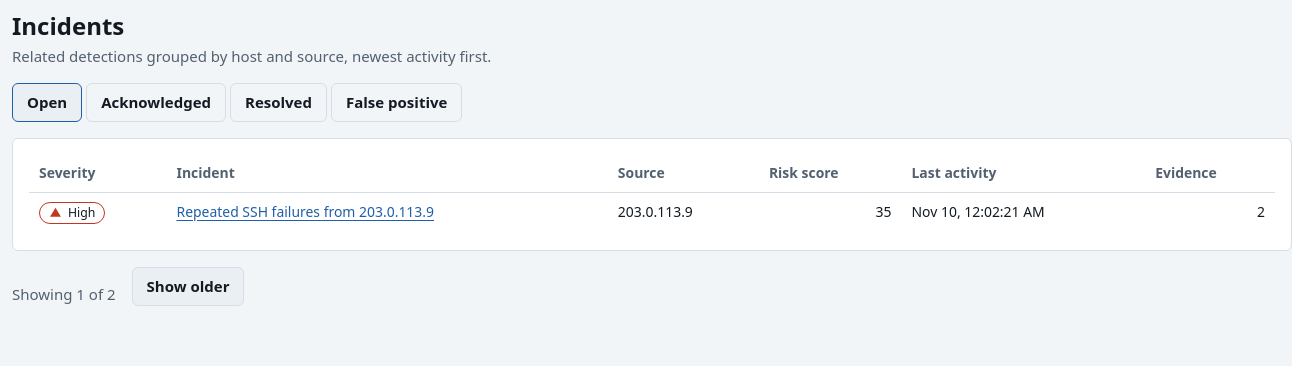
Test: Incidents › loads older incidents with the cursor
Click the button "Show older".
click(188, 287)  # box [132, 267, 244, 306]
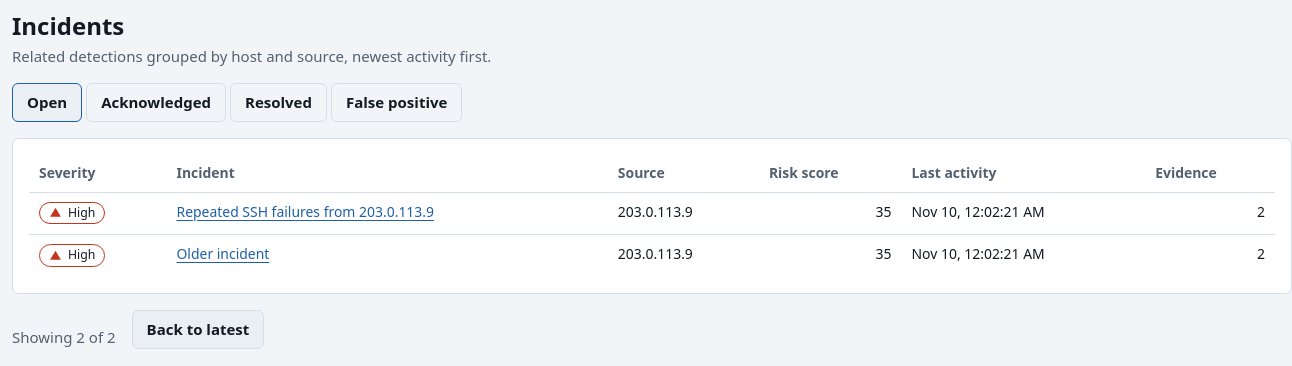
Expected: the link "Older incident" is shown, [176, 244, 269, 263]
Expected: the button "Show older" is gone
